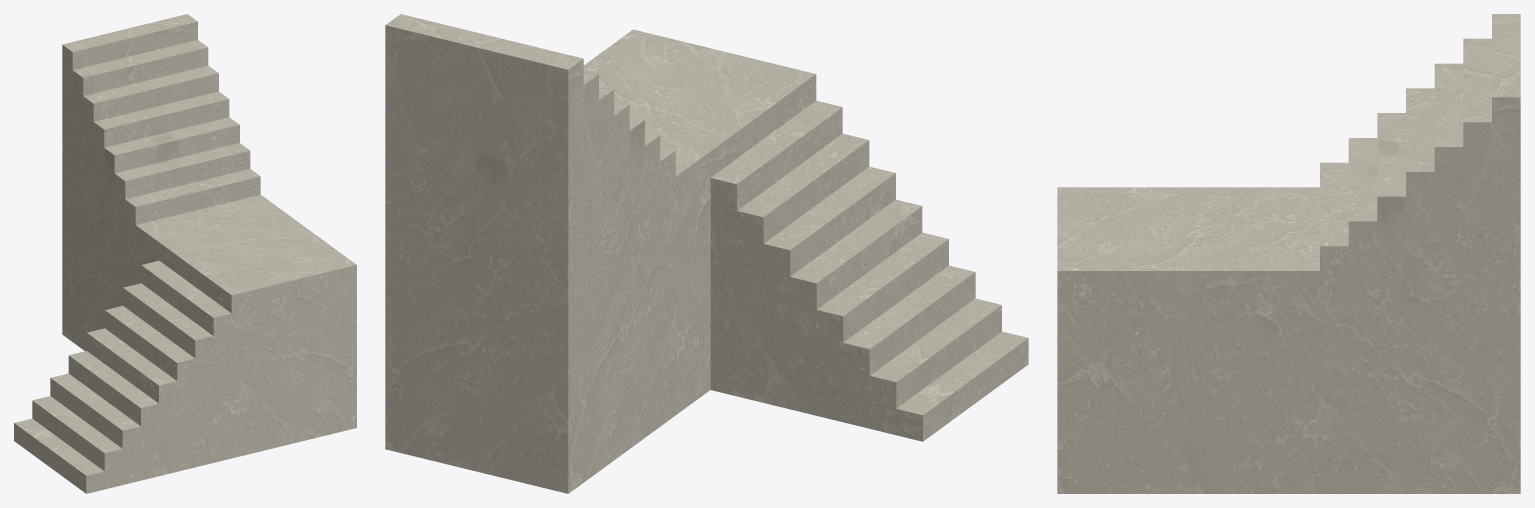
The model's file is AlabasterStairs.004.glb.
3 views of the same model, side by side, from view 1: azimuth 30°, elevation 25°; view 2: azimuth 150°, elevation 25°; view 3: azimuth 270°, elevation 25° (orthographic). The views are drawn at different scales.
Parts seen in each view (by area): view 1: AlabasterStairs.004; view 2: AlabasterStairs.004; view 3: AlabasterStairs.004.
Part boxes in pixels (x1,y1,x2,y2): AlabasterStairs.004: (14, 14, 356, 493); AlabasterStairs.004: (385, 14, 1028, 493); AlabasterStairs.004: (1057, 14, 1520, 493).
Size of what is drawn, in the model's own units: 3.9 by 4 by 4.23.
Materials: 1 (1 with a texture image).
